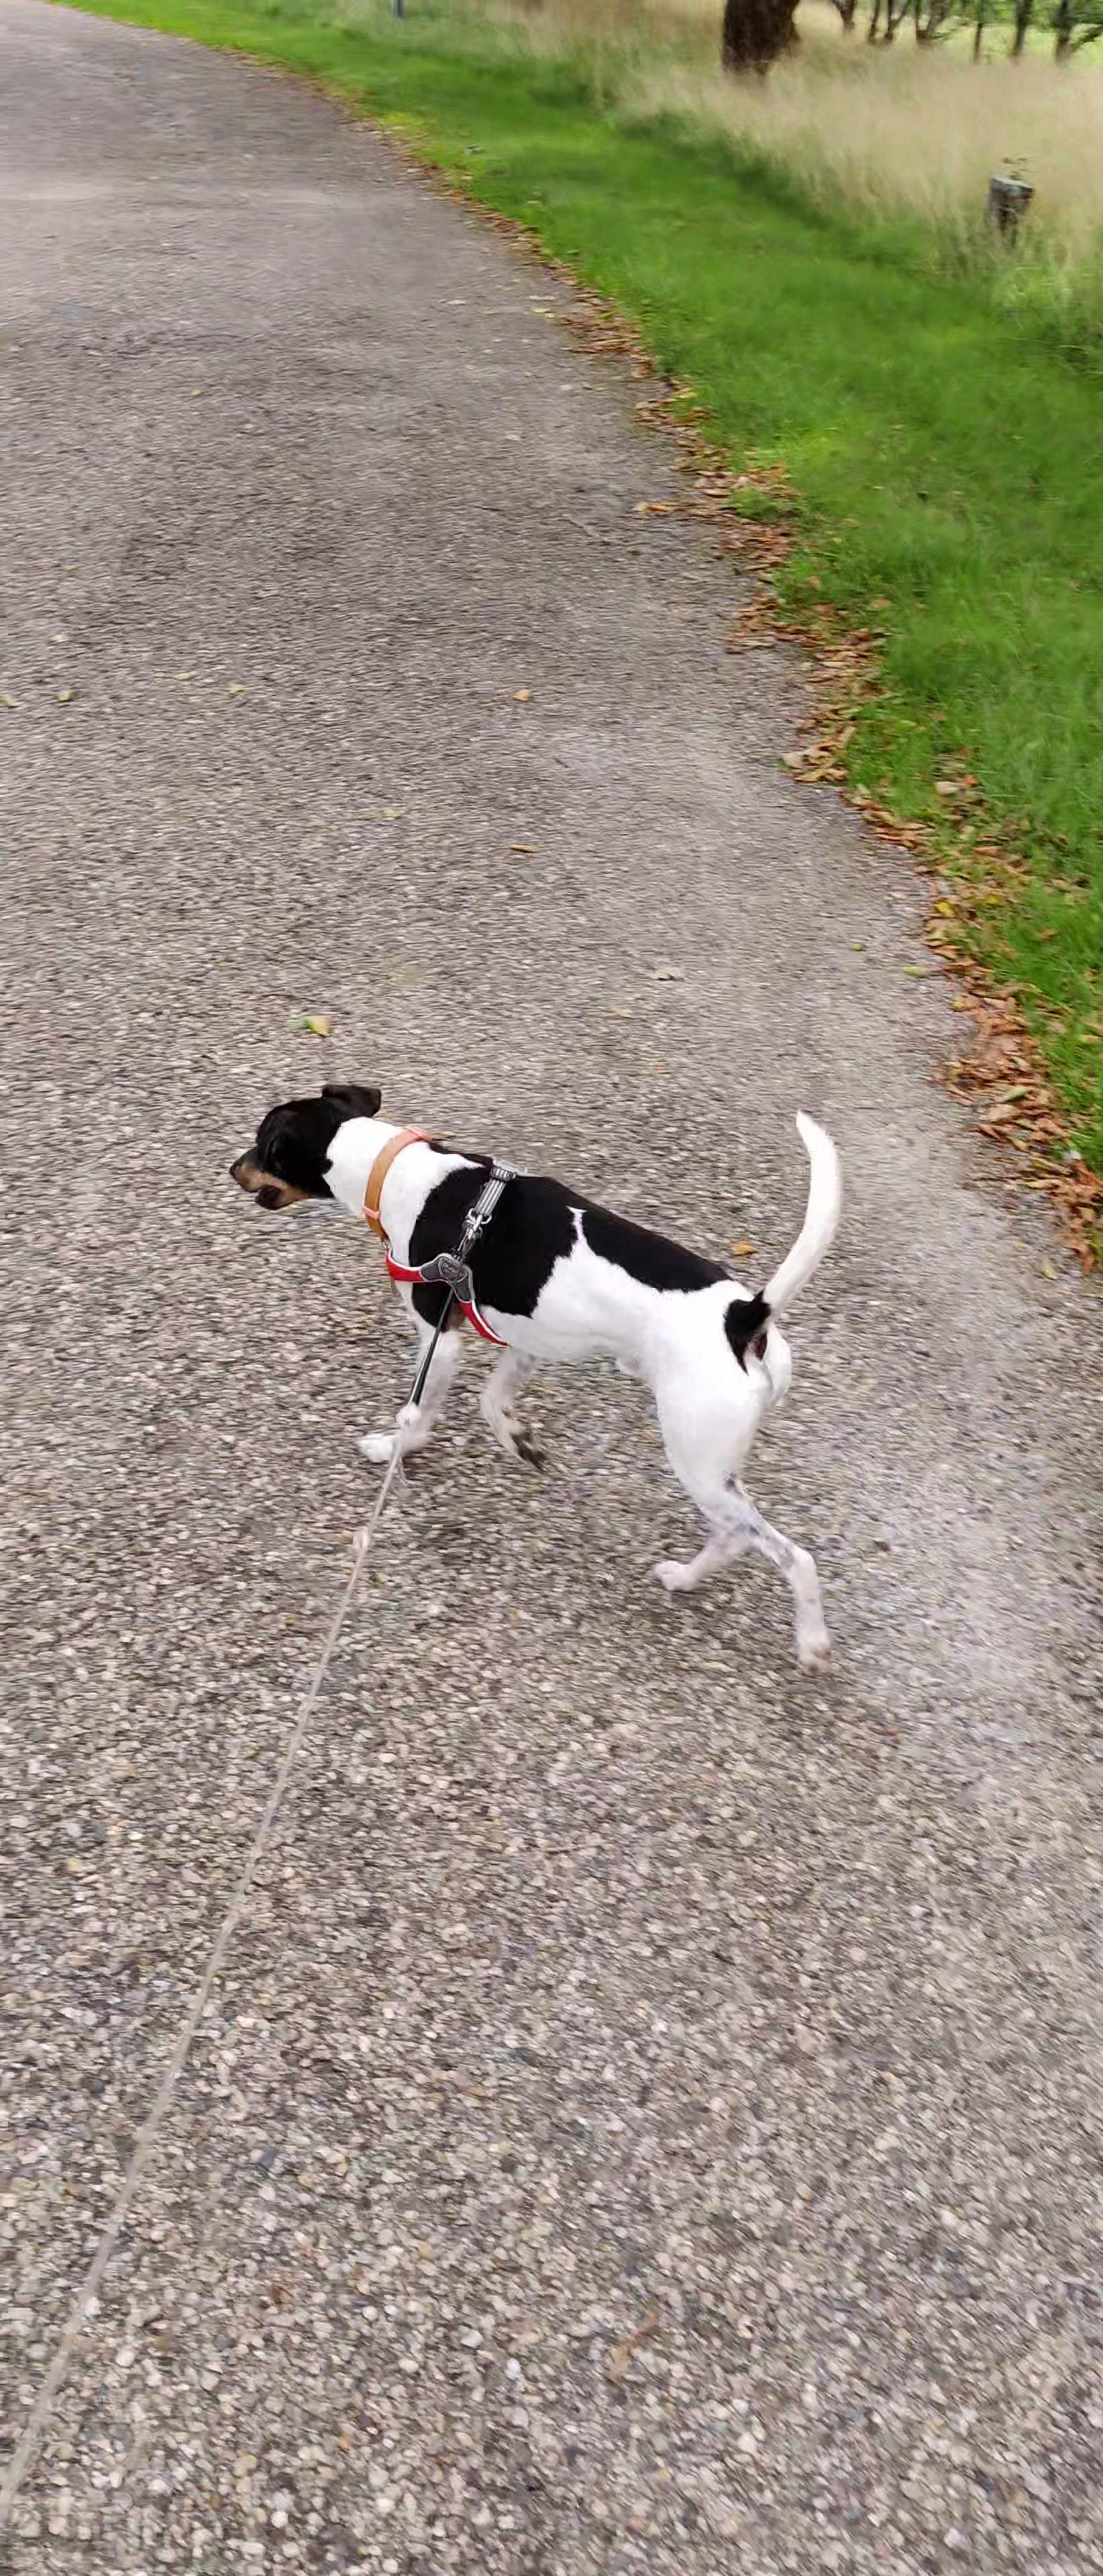Dog: (201, 1055, 879, 1690)
